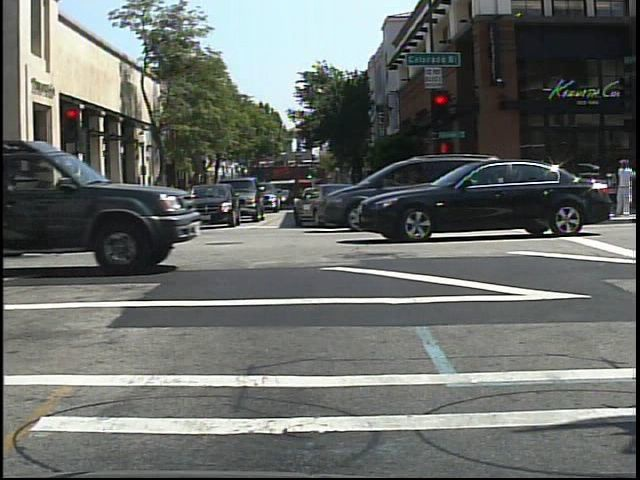person: (614, 152, 638, 219), (163, 180, 181, 220)
